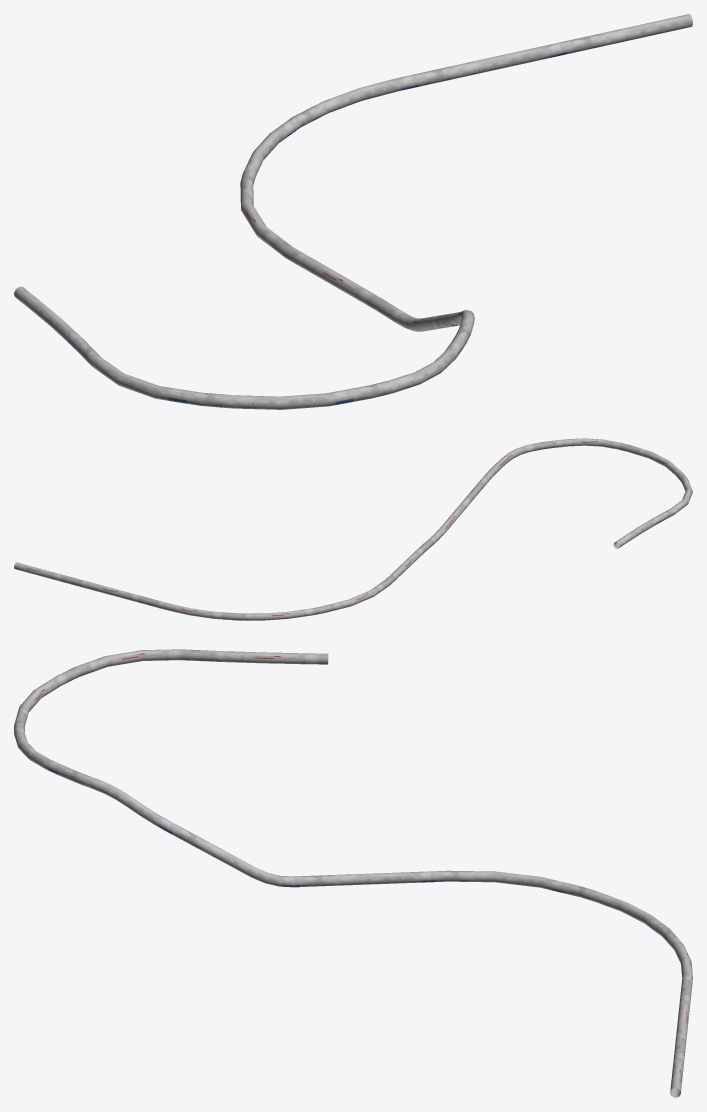
Rendered from Pipe.fbx.
3 views of the same model, one above another, from view 1: azimuth 30°, elevation 25°; view 2: azimuth 150°, elevation 25°; view 3: azimuth 270°, elevation 25° (orthographic). The views are drawn at different scales.
Parts seen in each view (by area): view 1: MAT_Pipe_01; view 2: MAT_Pipe_01; view 3: MAT_Pipe_01.
Boxes of the visible parts, <box> form: MAT_Pipe_01: <box>14,14,692,409</box>; MAT_Pipe_01: <box>14,438,692,620</box>; MAT_Pipe_01: <box>14,649,692,1097</box>.
Bounding box in the file's own units: 12.44 × 1.45 × 9.89.
Materials: 1 (1 with a texture image).
